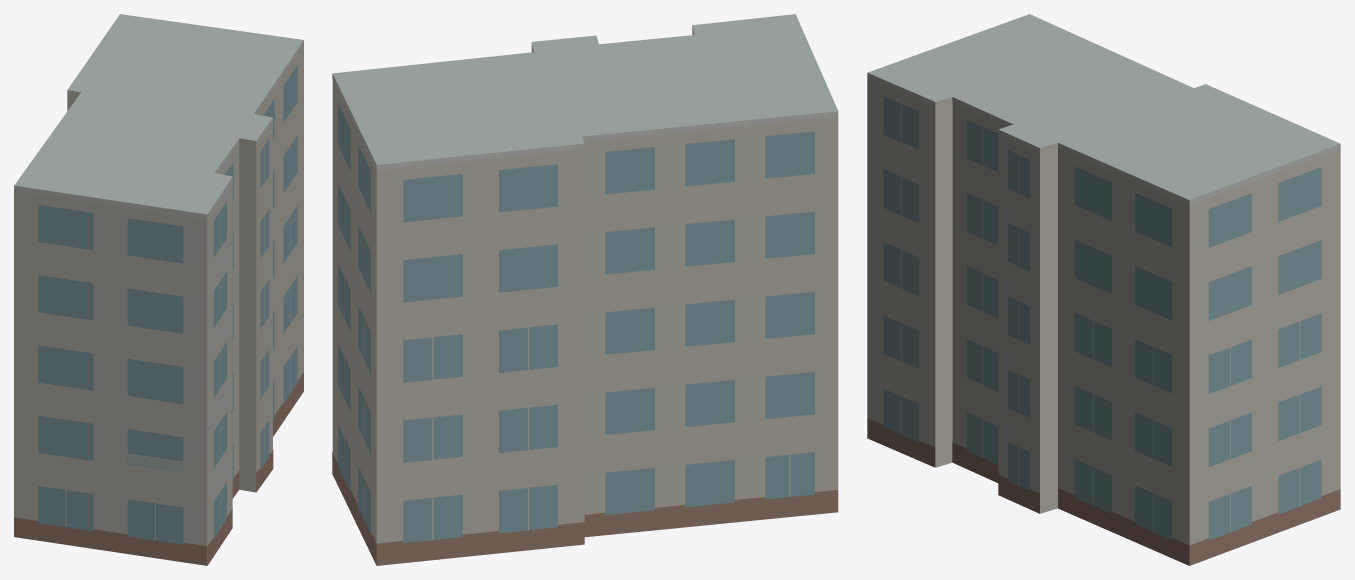
File: survey-upis-33010757.glb
The picture shows the model from 3 angles, left to right: view 1: azimuth 30°, elevation 25°; view 2: azimuth 150°, elevation 25°; view 3: azimuth 270°, elevation 25°; orthographic projection. The views are drawn at different scales.
Parts seen in each view (by area): view 1: survey-upis-33010757.tmp; view 2: survey-upis-33010757.tmp; view 3: survey-upis-33010757.tmp.
Boxes of the visible parts, x1,y1,x2,y2 form: survey-upis-33010757.tmp: (14,14,303,565); survey-upis-33010757.tmp: (332,14,838,565); survey-upis-33010757.tmp: (867,14,1340,565).
Bounding box in the file's own units: 19.55 × 17.9 × 21.
